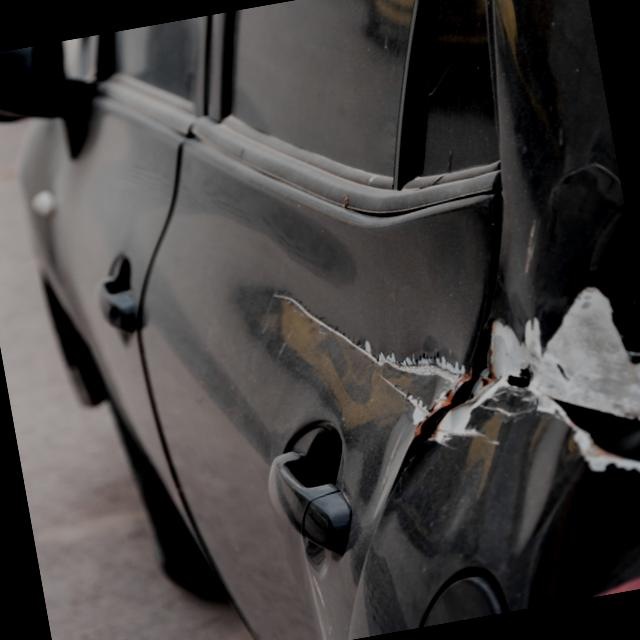Dechirure: (358, 283, 547, 506)
Rayure: (246, 256, 474, 451)
